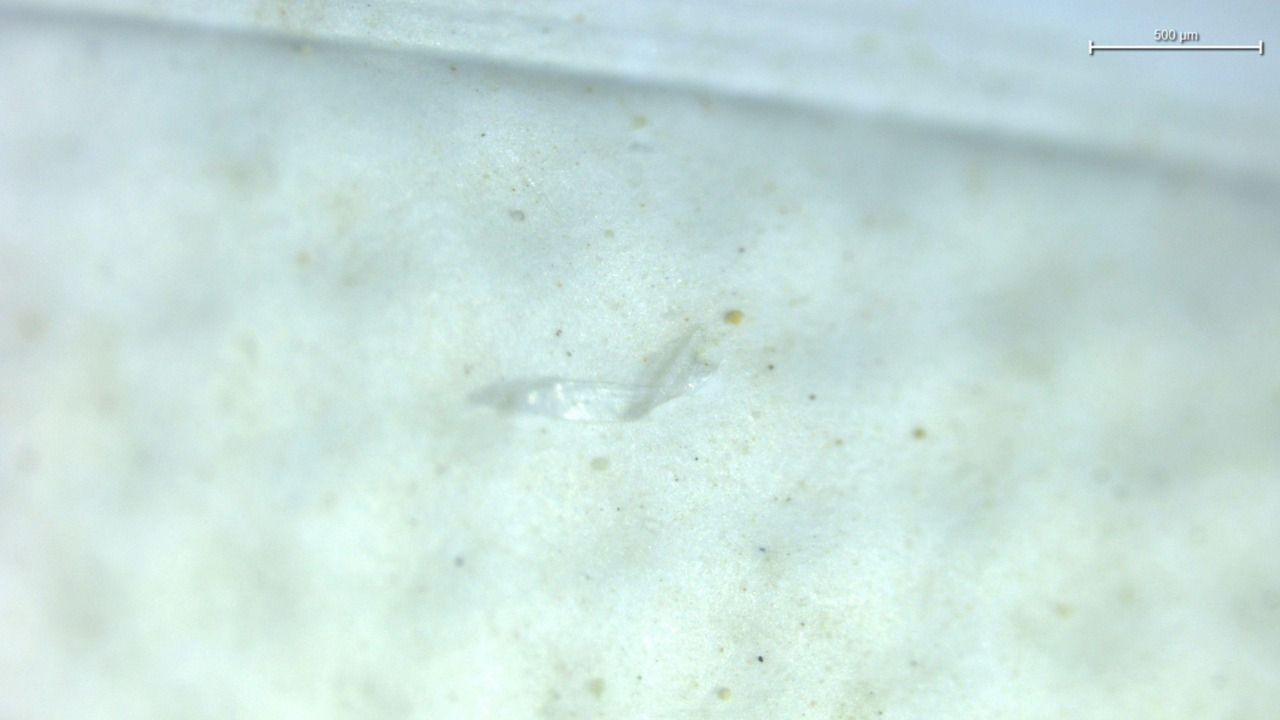microplastic_fragment: (471, 327, 715, 420)
